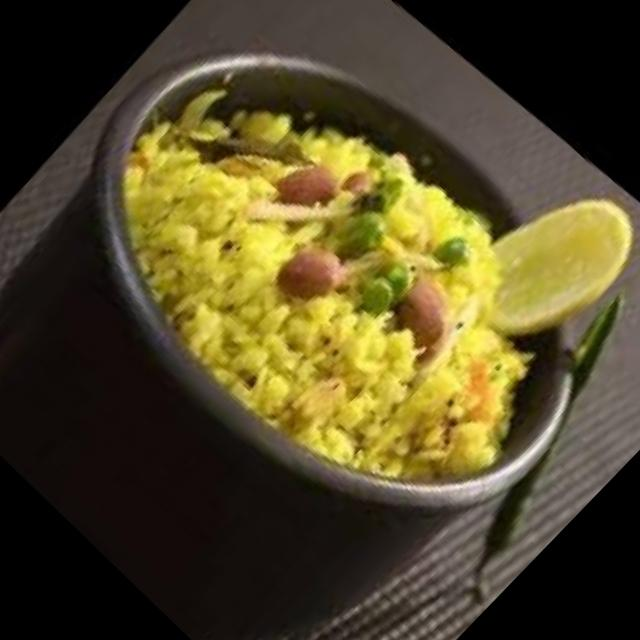poha: (44, 0, 622, 566)
